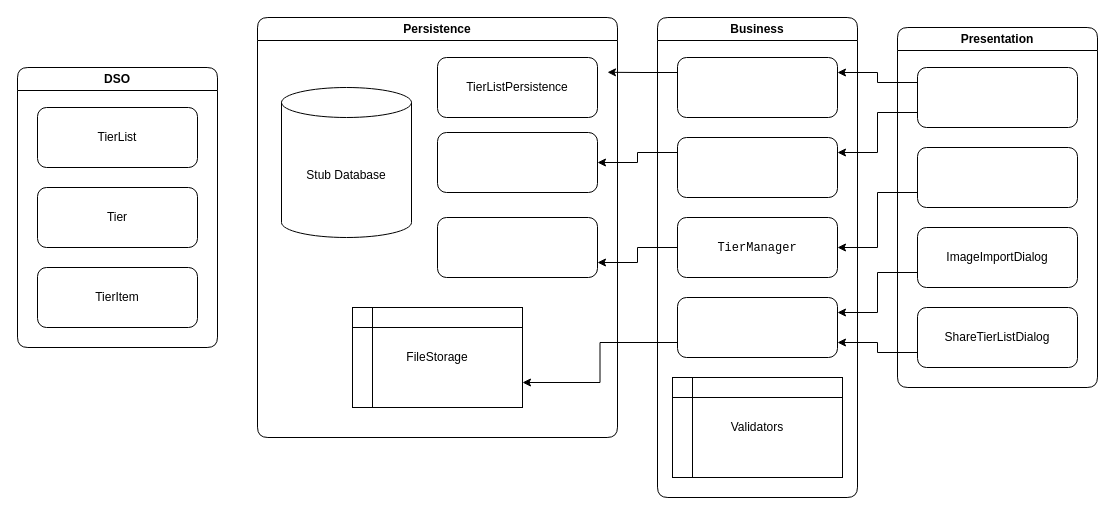
The diagram is 1115 pixels wide and 515 high, and some of its shapes have lost their labels. Each missing label, with the centre of its shape:
ImageIOManager: the point at 757,327
ItemPlacementManager: the point at 757,167
TierEditorDialog: the point at 997,177
TierItemPersistence: the point at 517,162
TierListManager: the point at 757,87
TierListView: the point at 997,97
TierPersistence: the point at 517,247
